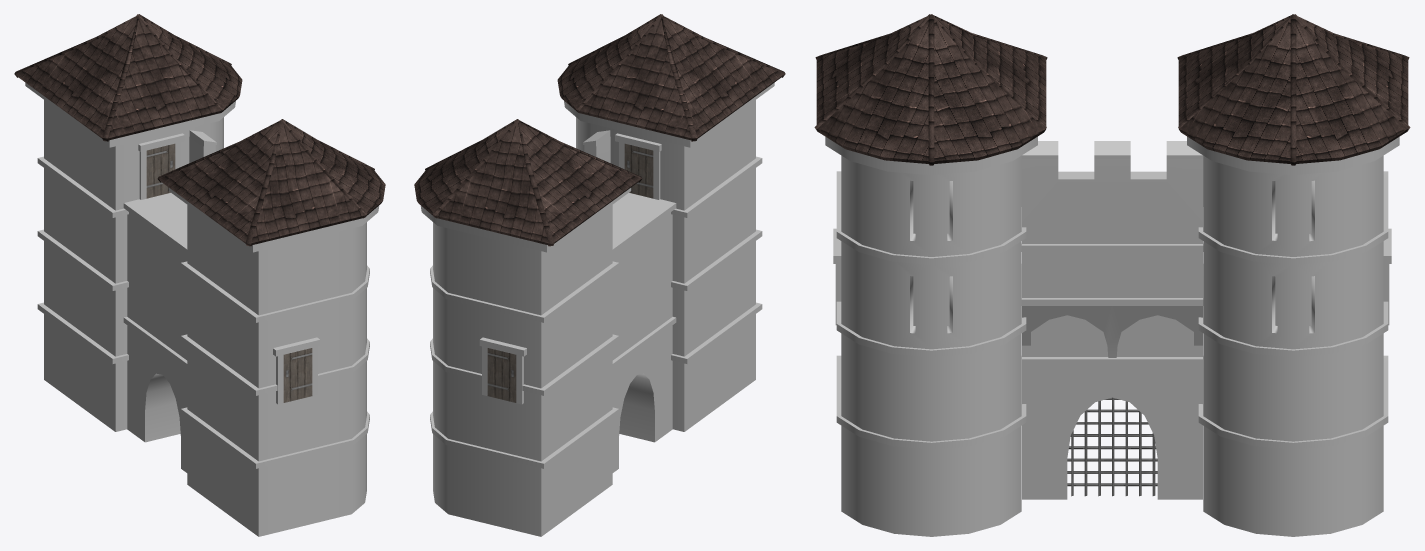
The model's file is Gate.fbx.
3 renders of one model, left to right at view 1: azimuth 30°, elevation 25°; view 2: azimuth 150°, elevation 25°; view 3: azimuth 270°, elevation 25°, orthographic. The views are drawn at different scales.
Parts seen in each view (by area): view 1: polySurface31; view 2: polySurface31; view 3: polySurface31, polySurface6.
Part boxes in pixels (x1,y1,x2,y2): polySurface31: [14, 14, 385, 536]; polySurface31: [414, 14, 785, 536]; polySurface31: [814, 14, 1410, 536]; polySurface6: [1067, 397, 1157, 496].
Size of the model in its own units: 558 by 1161 by 1317.
